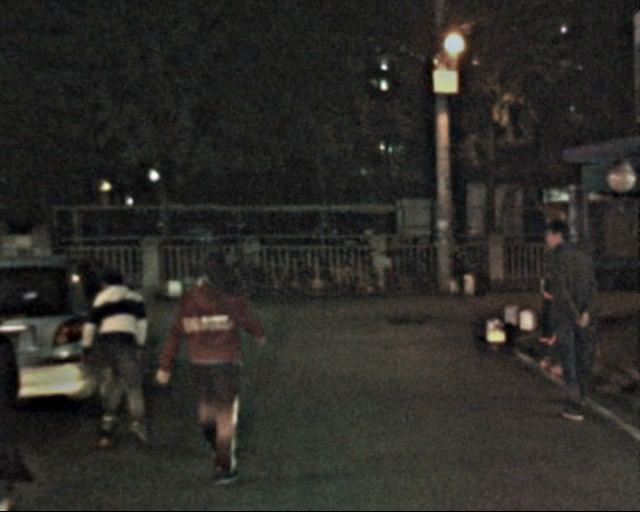person: (165, 243, 258, 483), (532, 211, 609, 433), (84, 260, 159, 448)
